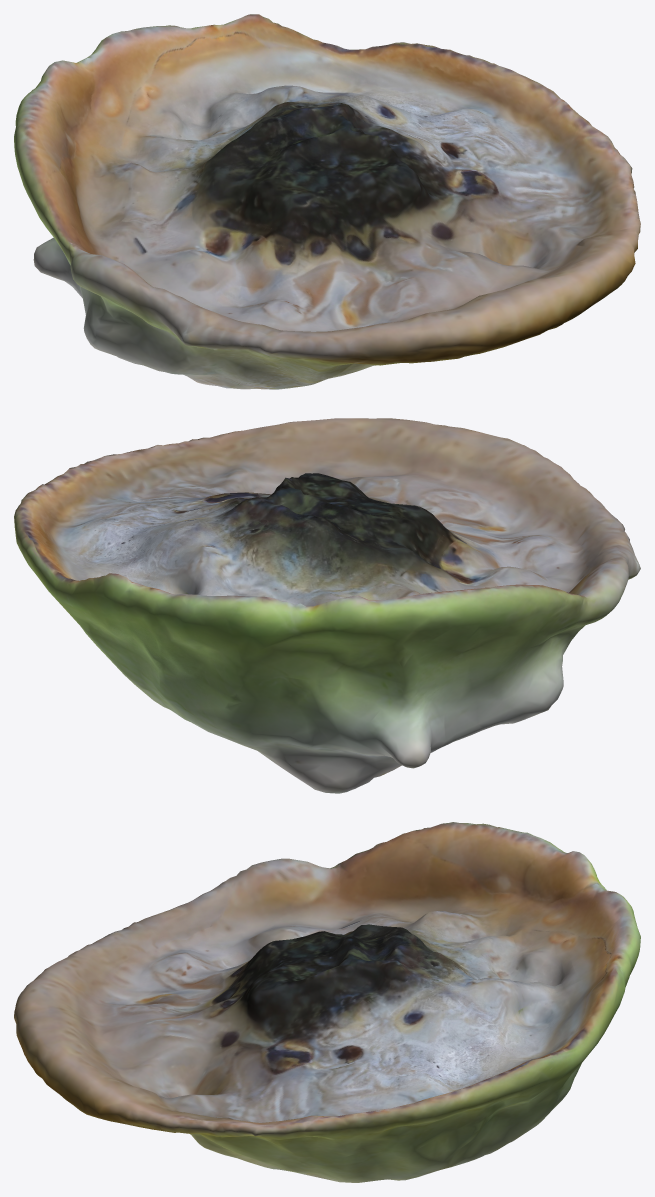
The model's file is model-surabi.glb.
3 renders of one model, top to bottom at view 1: azimuth 30°, elevation 25°; view 2: azimuth 150°, elevation 25°; view 3: azimuth 270°, elevation 25°, orthographic. The views are drawn at different scales.
Bounding box in the file's own units: 1.17 × 0.5113 × 1.2.
Materials: 1 (1 with a texture image).
